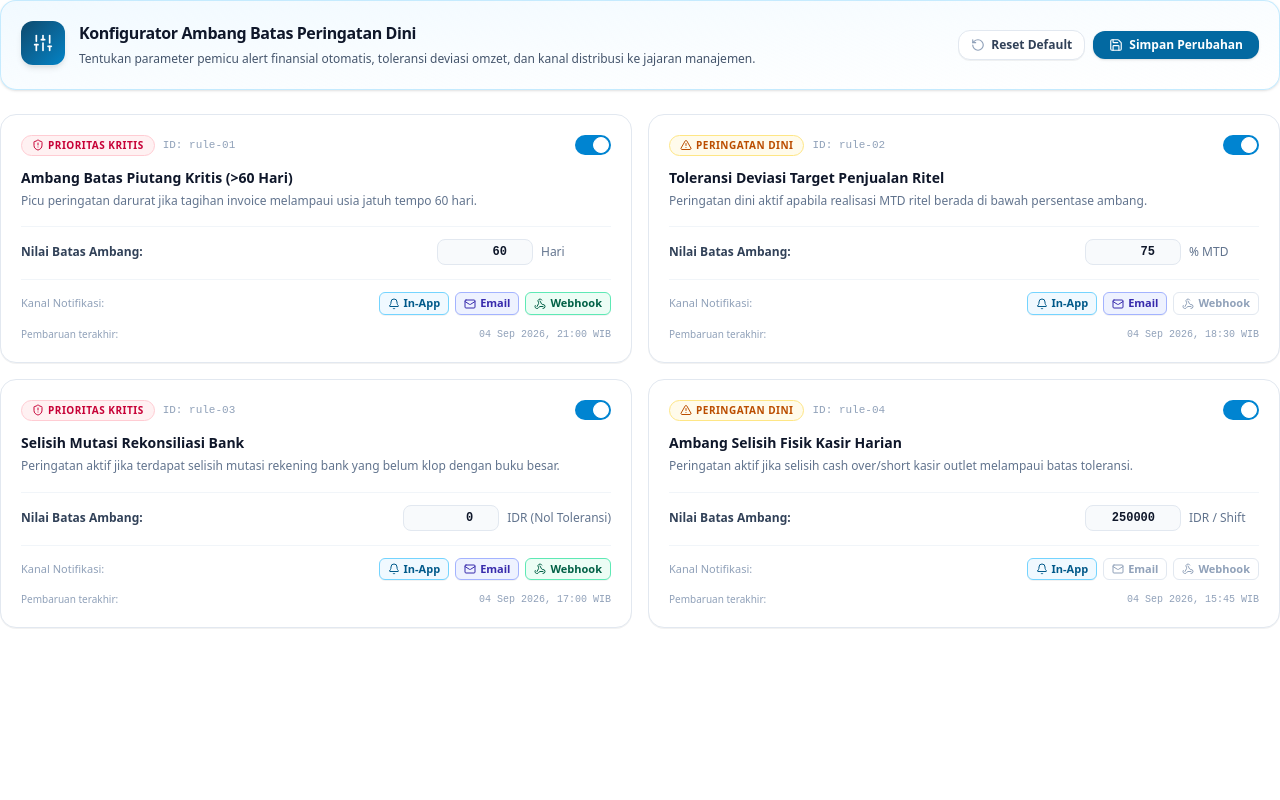
Fase 7: Enterprise Incident Management & Alert Rules Tests › AlertRuleConfigurator Component › resets rules to default when reset button is clicked
This screenshot has width=1280, height=800.
Replace the text in the number field with test id "rule-threshold-input-rule-01" with "15" at point(485, 252), box [437, 239, 533, 265]
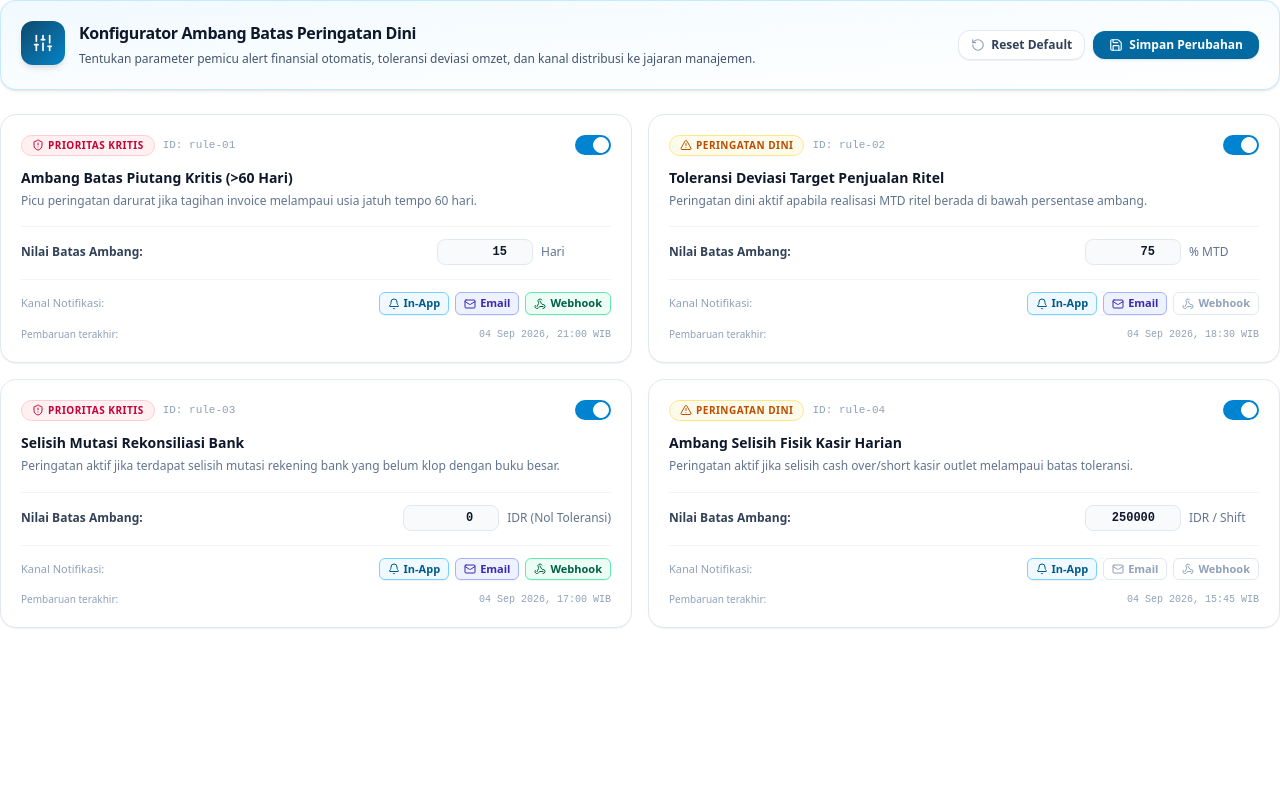
Click the button with test id "reset-rules-btn" at point(1022, 45), box [958, 30, 1085, 60]
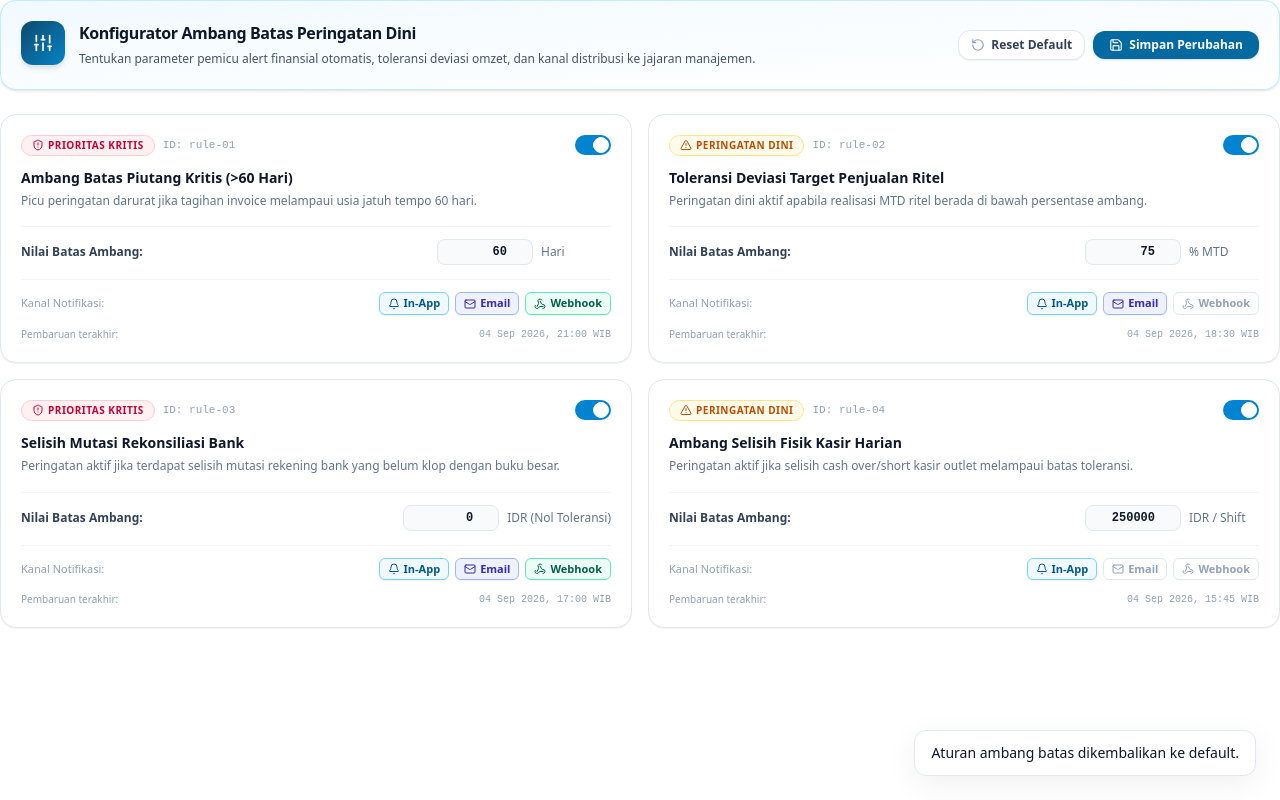
Now the number field with test id "rule-threshold-input-rule-01" holds "60", box [437, 239, 533, 265]
